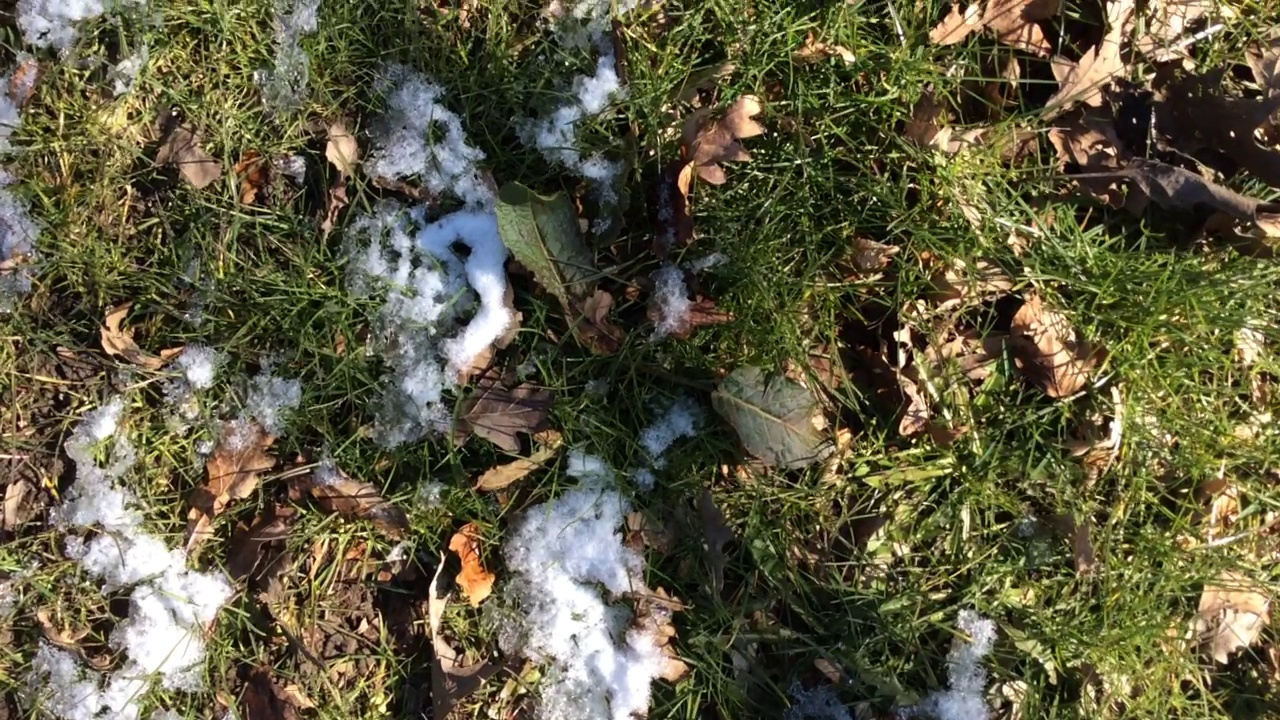root: (601, 324, 693, 400)
rumex: (488, 172, 847, 469)
